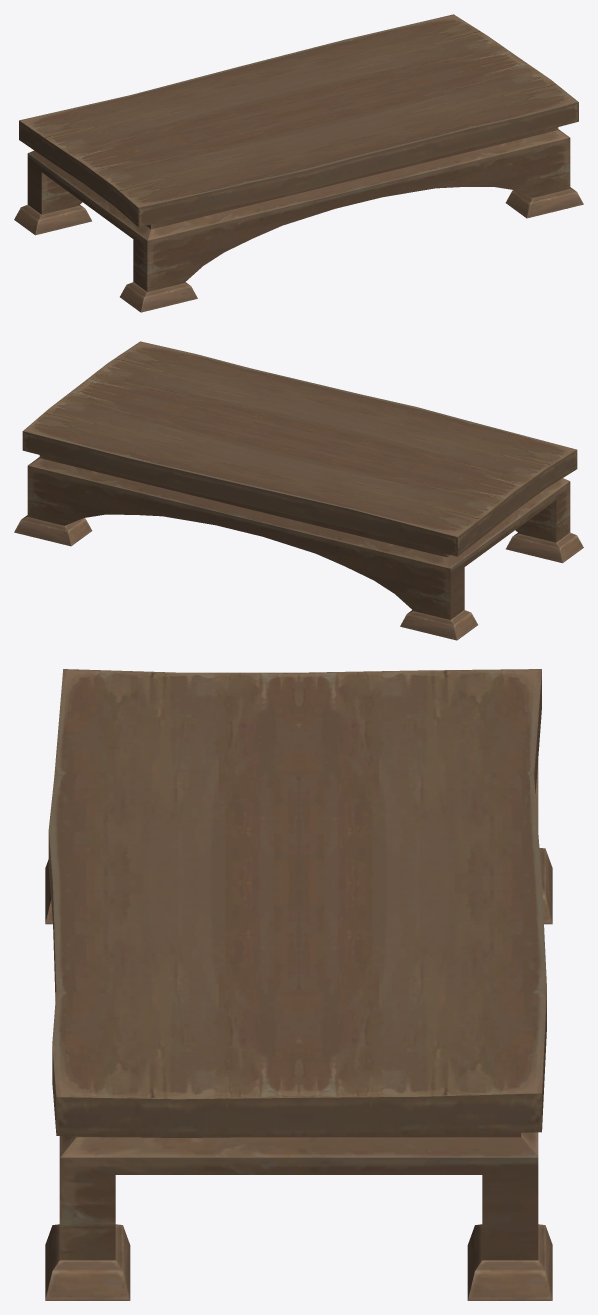
The model's file is Homeworld_Interior_Xm_Table_Prop_Lowtaizi_01_Vo.fbx.
3 renders of one model, top to bottom at view 1: azimuth 30°, elevation 25°; view 2: azimuth 150°, elevation 25°; view 3: azimuth 270°, elevation 25°, orthographic. The views are drawn at different scales.
Visible parts, largest first — view 1: Indoor_Xm_Prop_Barbecue_Decoration_67_Vo; view 2: Indoor_Xm_Prop_Barbecue_Decoration_67_Vo; view 3: Indoor_Xm_Prop_Barbecue_Decoration_67_Vo.
Boxes of the visible parts, <box> form: Indoor_Xm_Prop_Barbecue_Decoration_67_Vo: <box>14,14,583,312</box>; Indoor_Xm_Prop_Barbecue_Decoration_67_Vo: <box>14,341,583,640</box>; Indoor_Xm_Prop_Barbecue_Decoration_67_Vo: <box>45,669,552,1300</box>.
Size of the model in its own units: 1.73 by 0.3762 by 0.8583.
